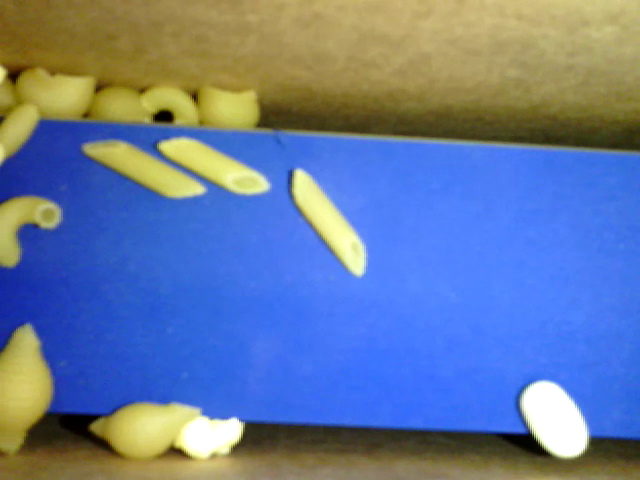elbow: (1, 195, 62, 269), (139, 84, 197, 125)
penne: (290, 165, 368, 280), (80, 137, 205, 201), (154, 135, 269, 197)
shell: (90, 400, 203, 459), (2, 320, 52, 453), (16, 68, 95, 122), (193, 84, 259, 128), (91, 84, 155, 124)
